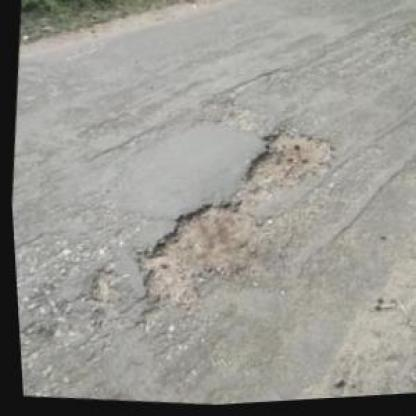pothole: (127, 191, 274, 315), (233, 119, 341, 205), (82, 269, 119, 308)
